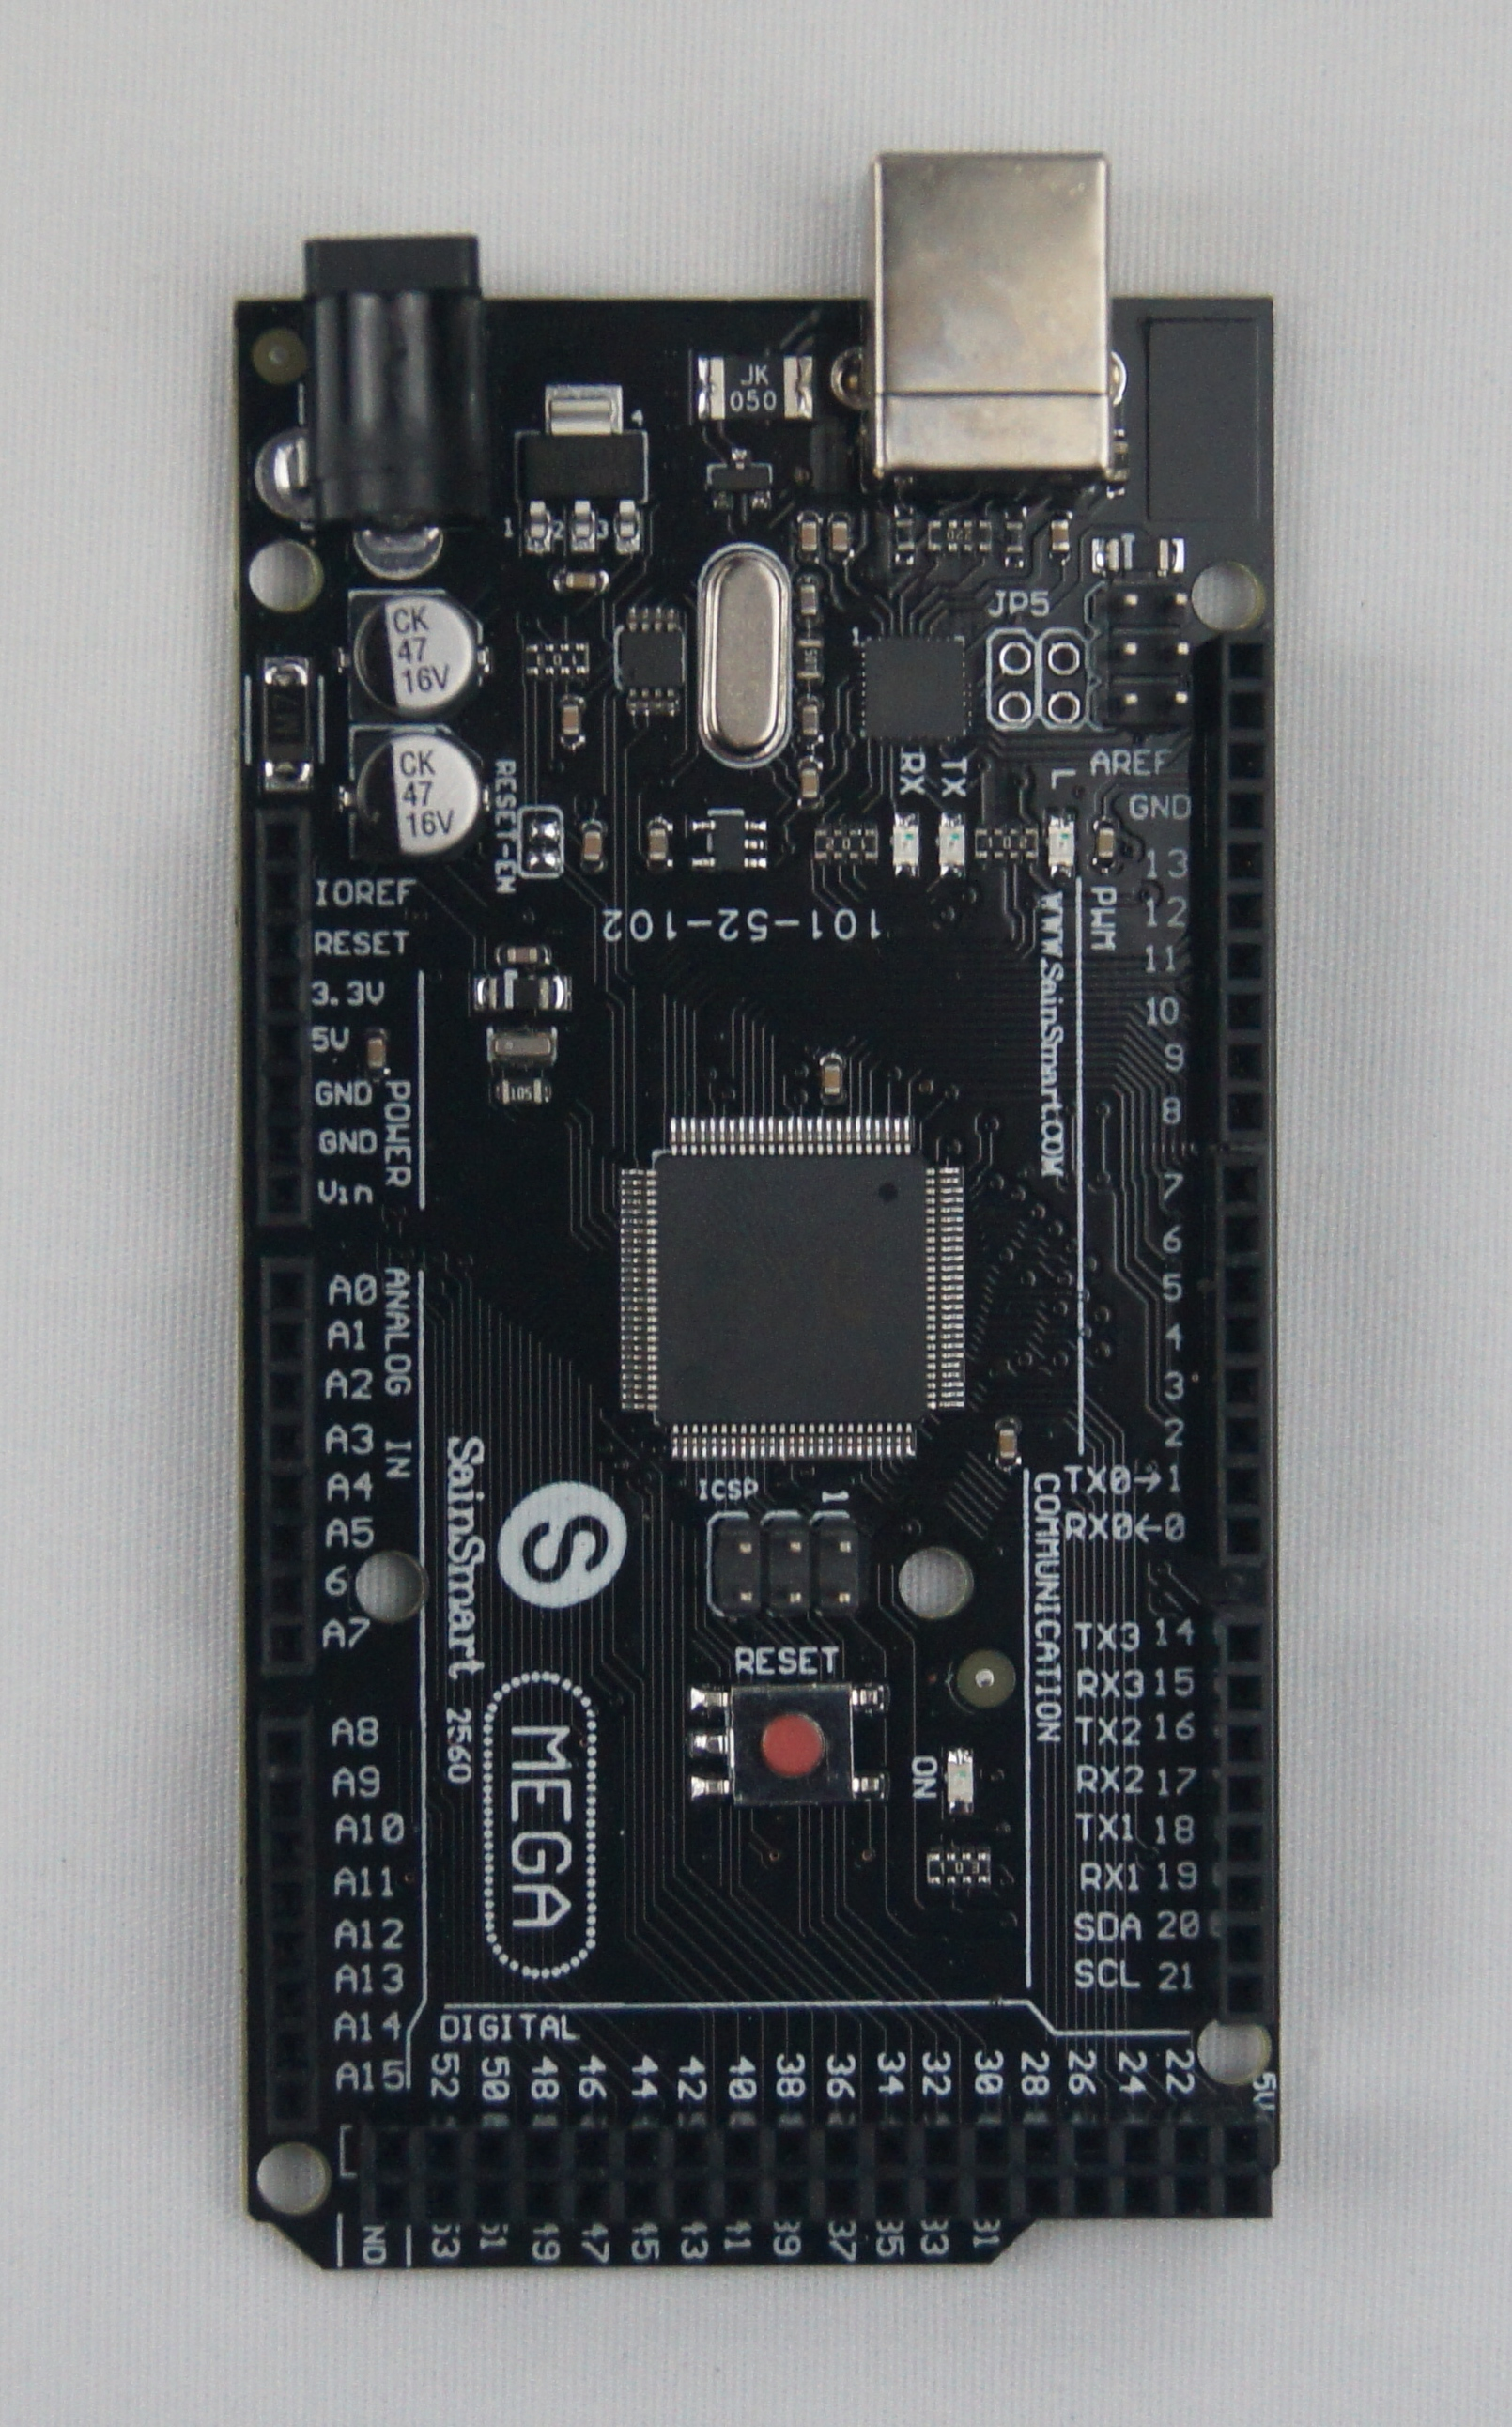connector: (355, 2120, 1273, 2225), (301, 232, 493, 544), (1216, 622, 1279, 1146), (253, 1709, 322, 2140), (1216, 1603, 1282, 2026), (251, 807, 314, 1230), (258, 1253, 319, 1678), (1216, 1148, 1273, 1566), (1103, 580, 1193, 734), (714, 1524, 859, 1619), (995, 634, 1038, 725), (1043, 629, 1080, 727)
